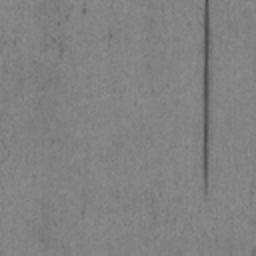Scratches: (202, 0, 212, 189)
